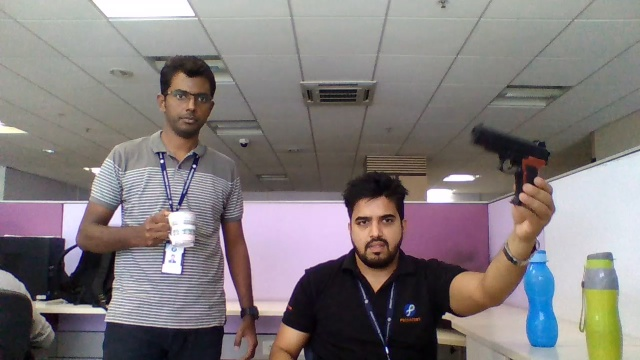gun: (471, 123, 550, 177)
